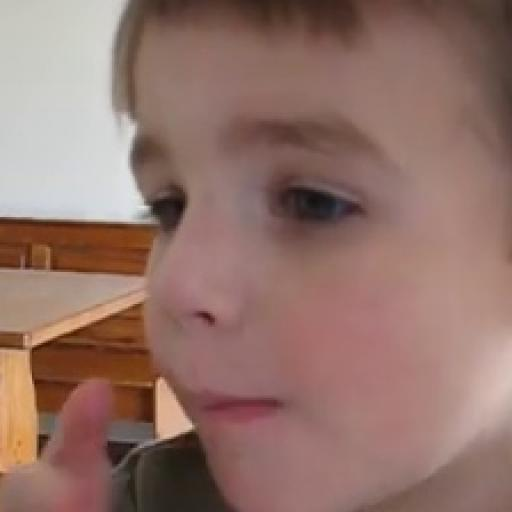Autism: (84, 2, 512, 512)
